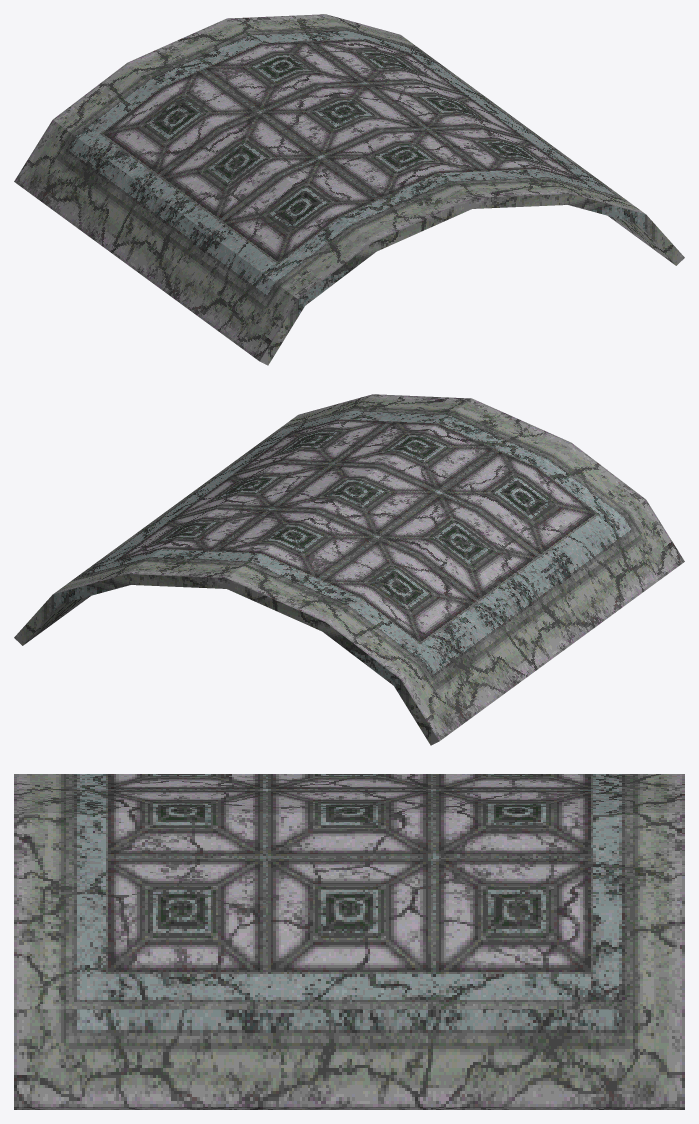
File: roof_set1_05.gltf
3 renders of one model, top to bottom at view 1: azimuth 30°, elevation 25°; view 2: azimuth 150°, elevation 25°; view 3: azimuth 270°, elevation 25°, orthographic. The views are drawn at different scales.
Parts seen in each view (by area): view 1: roof_set1_05; view 2: roof_set1_05; view 3: roof_set1_05.
Part boxes in pixels (<box>): roof_set1_05: <box>14,14,684,365</box>; roof_set1_05: <box>14,394,684,745</box>; roof_set1_05: <box>14,774,684,1109</box>.
Size of the model in its own units: 4 by 1.06 by 4.
Materials: 1 (1 with a texture image).
